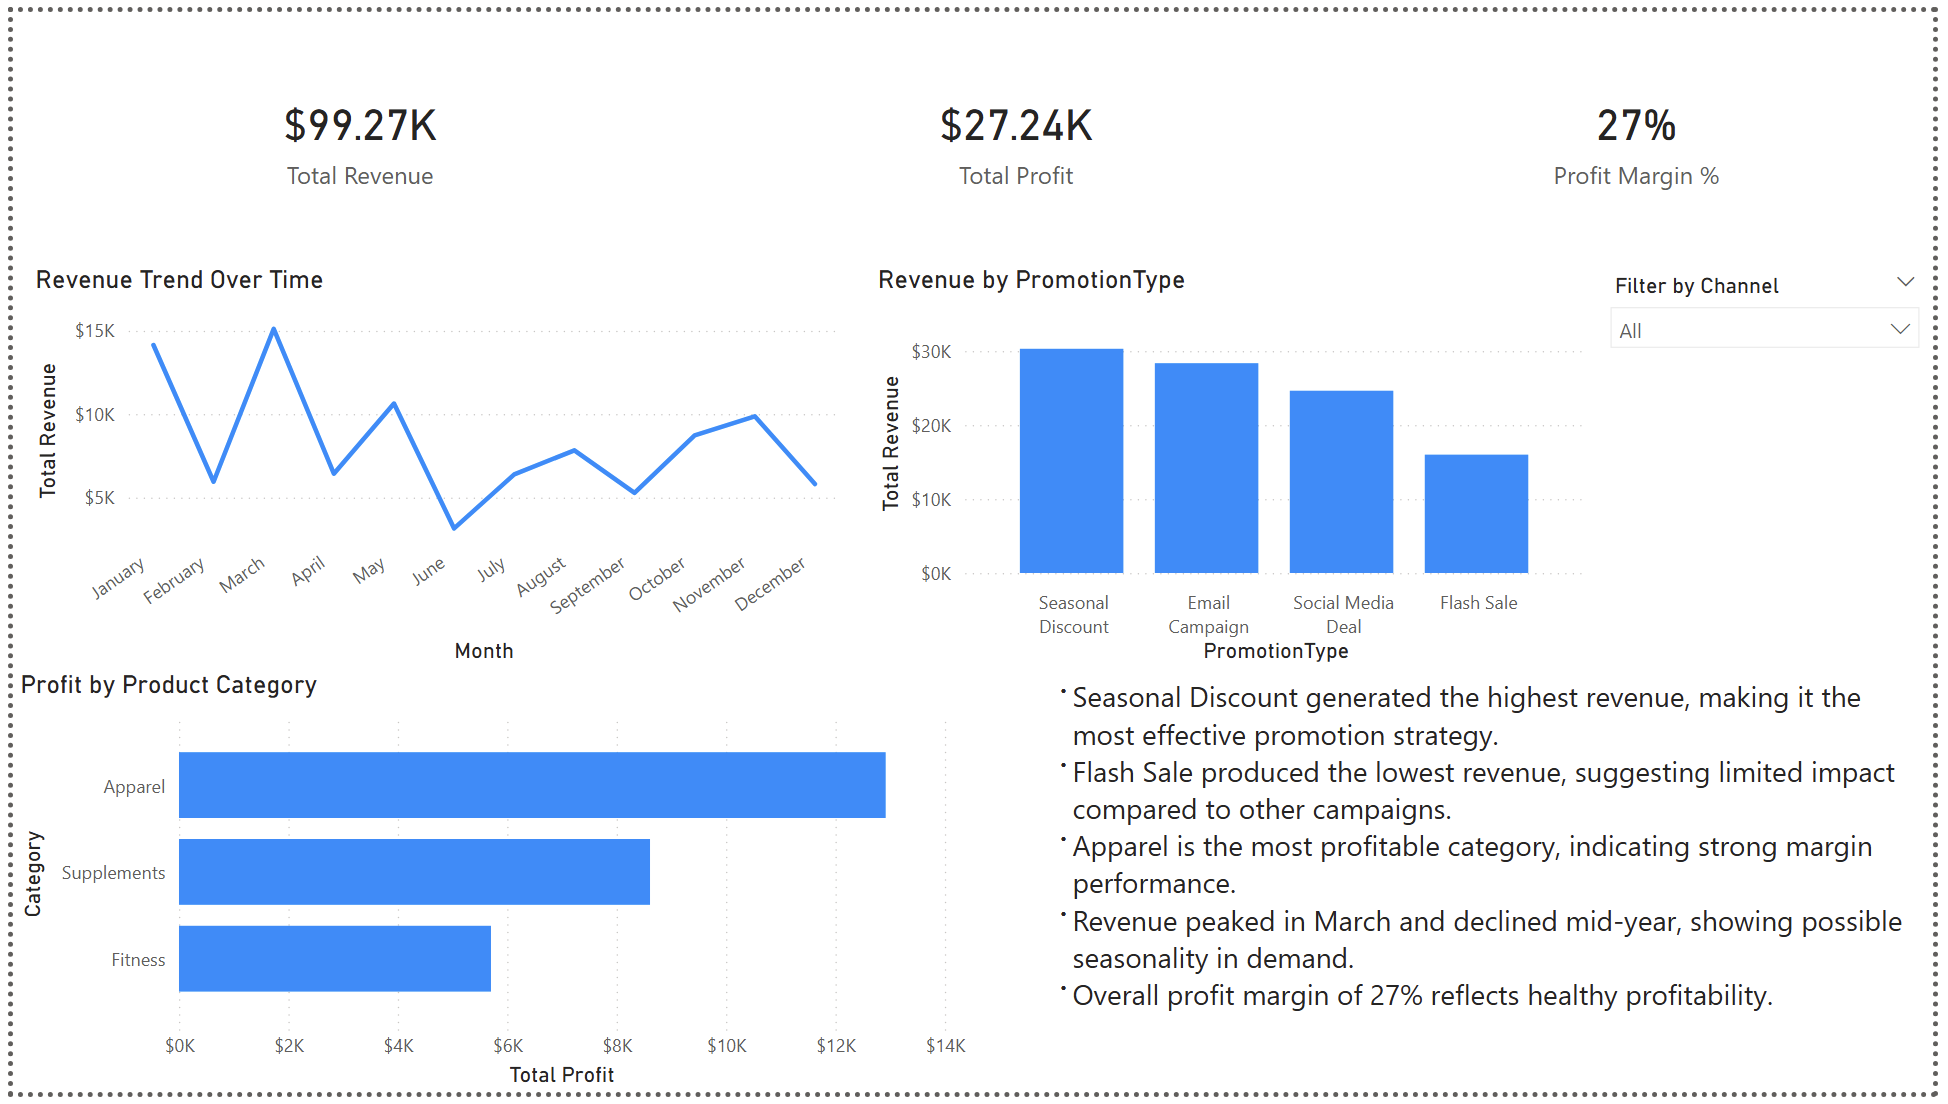

The dashboard page shown, as its layout file describes it:
{"tool":"powerbi","page":{"name":"Homework13_PowerBI","canvas":[1280,720],"ordinal":0},"visuals":[{"type":"card","fields":{"Values":["Fact_Sales.Total Revenue"]},"box":[10.5,0,442.5,168],"z":0},{"type":"card","fields":{"Values":["Fact_Sales.Total Profit"]},"box":[453,0,430.5,168],"z":1000},{"type":"card","fields":{"Values":["Fact_Sales.Profit Margin %"]},"box":[883.5,0,397.5,168],"z":2000},{"type":"lineChart","title":"Revenue Trend Over Time","fields":{"Category":["Dim_Date.MonthName"],"Y":["Fact_Sales.Total Revenue"]},"box":[9.6,168.4,545.5,269.9],"z":3000},{"type":"clusteredColumnChart","title":"Revenue by PromotionType","fields":{"Category":["Dim_Promotions.PromotionType"],"Y":["Fact_Sales.Total Revenue"]},"box":[572.3,168.4,482.3,269.9],"z":4000},{"type":"slicer","fields":{"Values":["Dim_Promotions.Channel"]},"box":[1054.6,168.4,225.8,269.9],"z":5000},{"type":"barChart","title":"Profit by Product Category","fields":{"Category":["Dim_Products.Category"],"Y":["Fact_Sales.Total Profit"]},"box":[0,437.5,640,282.5],"z":6000},{"type":"textbox","box":[682.5,437.5,597.5,282.5],"z":7000}]}

Visuals, with their boxes in screenshot pixels (x1, y1, x2, y2), scaled from the page's 1280x720 canvas onto the 1948x1104 screenshot:
card - Fact_Sales.Total Revenue: 16,0,689,258
card - Fact_Sales.Total Profit: 689,0,1345,258
card - Fact_Sales.Profit Margin %: 1345,0,1947,258
"Revenue Trend Over Time" lineChart: 15,258,845,672
"Revenue by PromotionType" clusteredColumnChart: 871,258,1605,672
slicer - Dim_Promotions.Channel: 1605,258,1947,672
"Profit by Product Category" barChart: 0,671,974,1103
textbox: 1039,671,1947,1103
